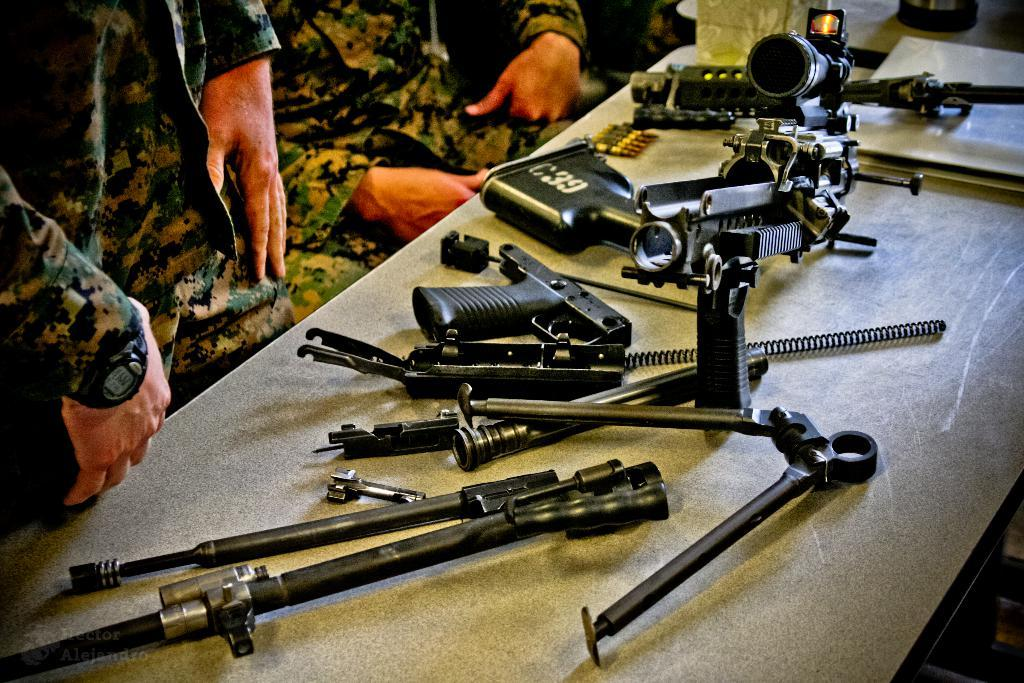non-violence: (1, 1, 290, 511), (269, 1, 591, 325)
weapon: (492, 140, 858, 284), (624, 1, 1023, 126), (412, 240, 629, 347)
